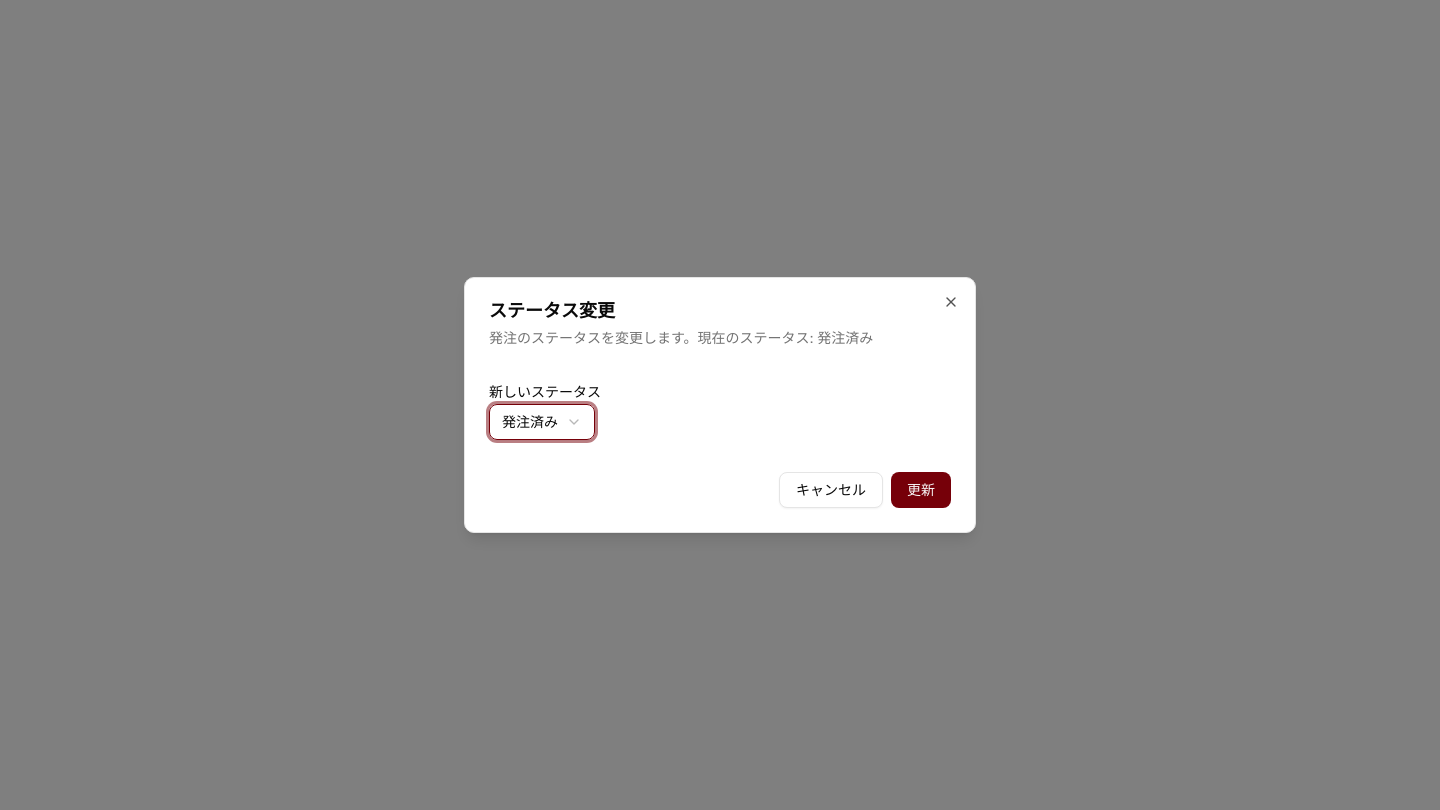
it: OrderStatusUpdateDialog › Error handling › shows validation error for invalid transition
Simulate trying an invalid transition (shouldn't happen with proper UI, but test the error handling)
Click the dropdown at (542, 422), box [489,404,595,440]
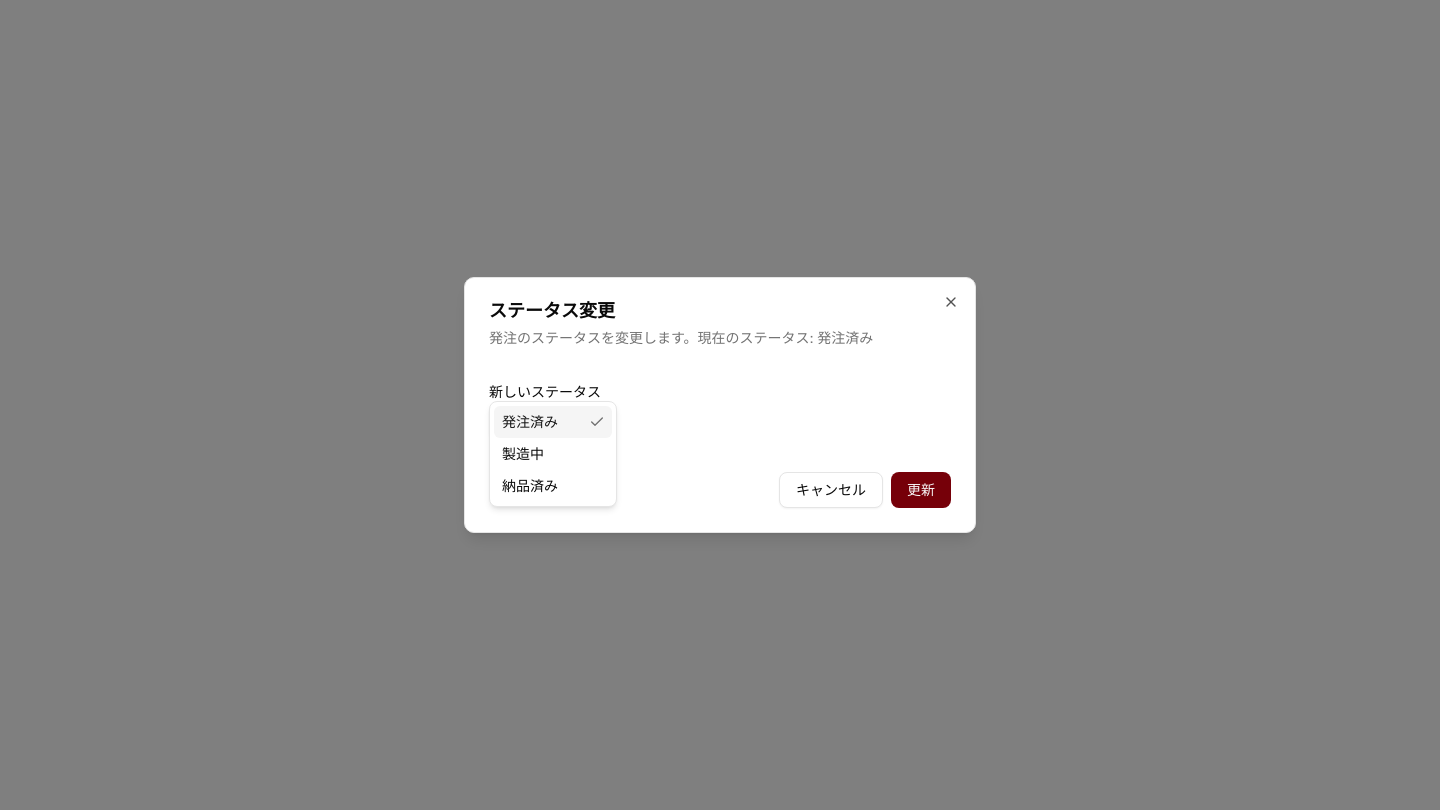
Select a different status to trigger API call
Click the option "製造中" at (523, 454), box [502,445,544,463]
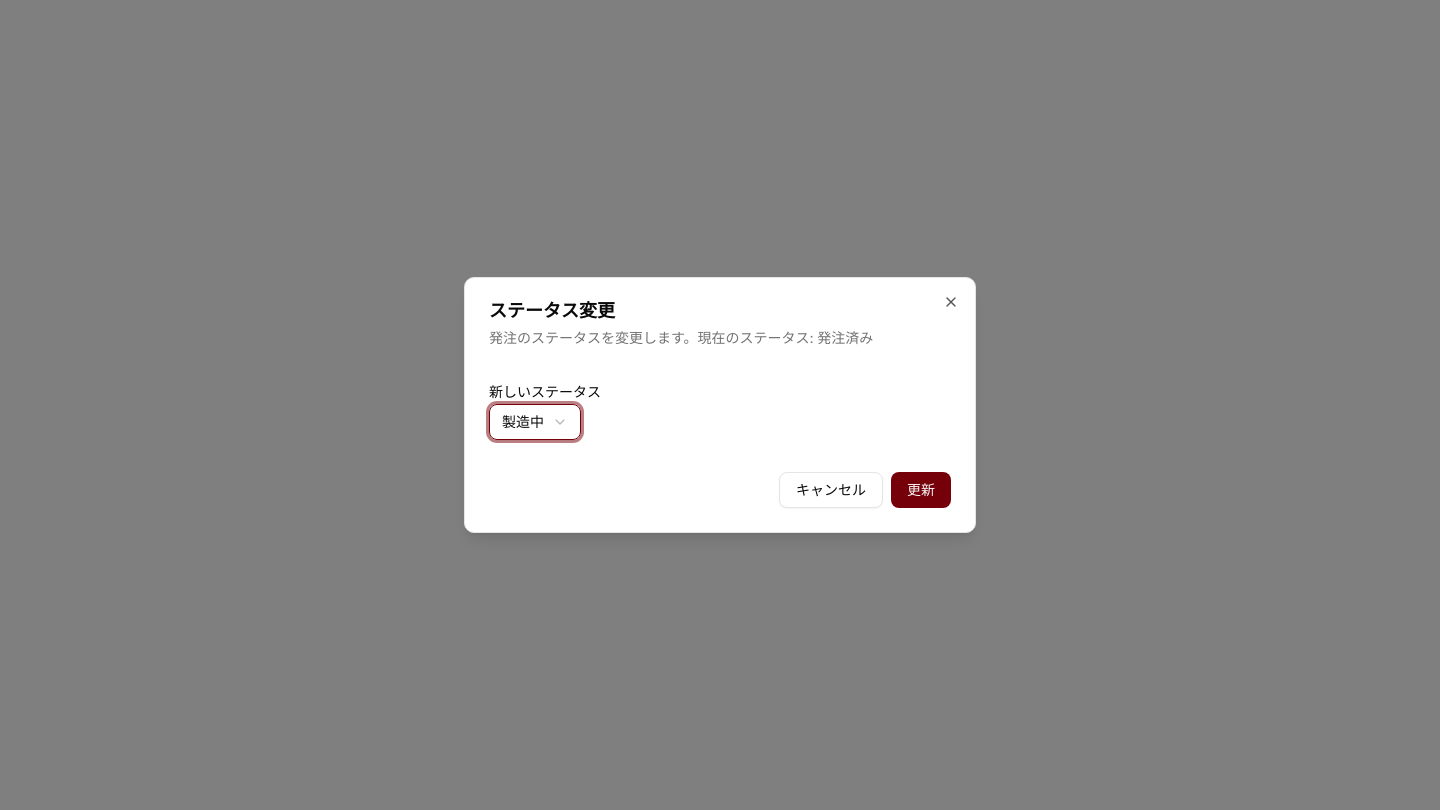
Click the button "更新" at (921, 490), box [891,472,951,508]
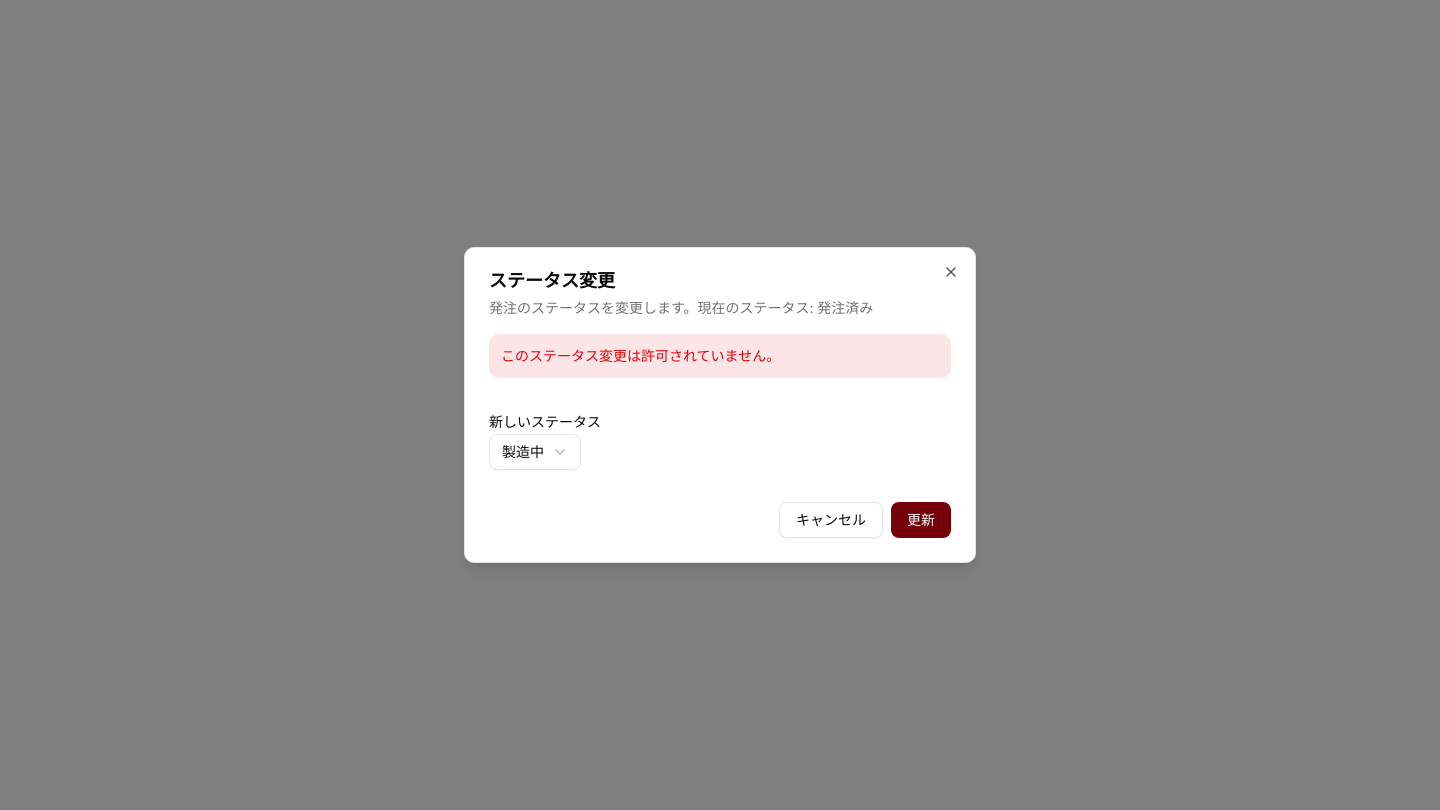
Expected: the text "このステータス変更は許可されていません。" is shown, [489,334,951,378]
